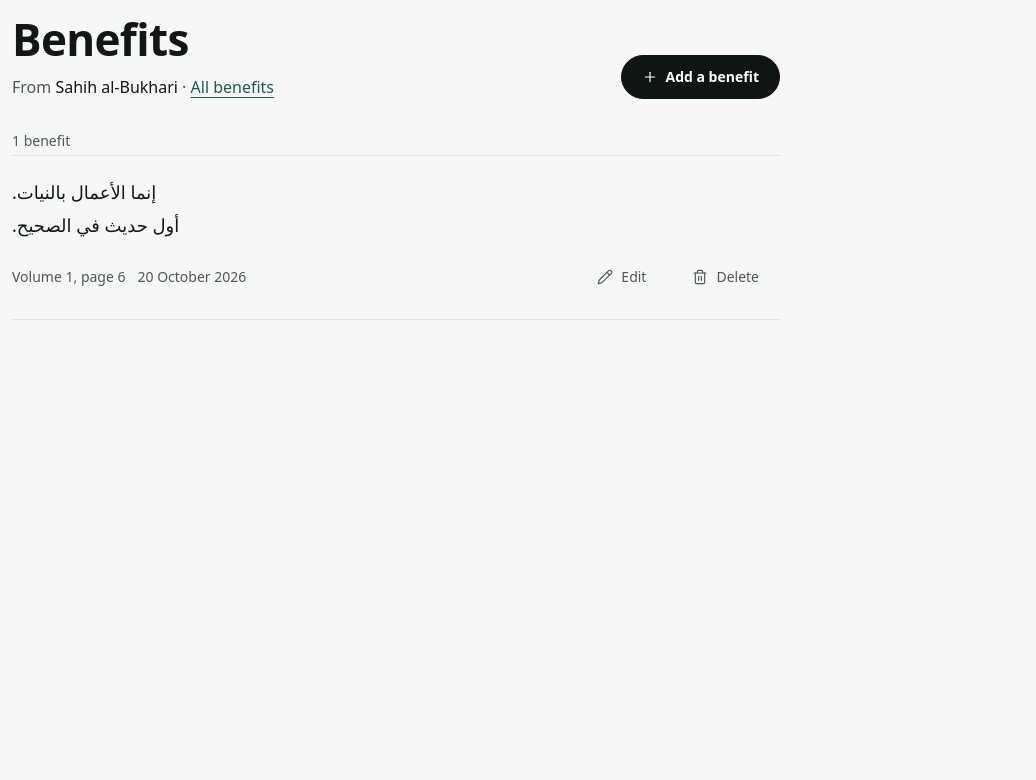
it: BenefitsPage › shows the benefits from one book, and deletes one at once, with Undo
Expected: the text "1 benefit" is shown, 12,131 -> 70,150
Expected: the text "From Sahih al-Bukhari · All benefits" is shown, 12,75 -> 274,99
Click the button with aria-label "Delete the benefit of 20 October 2026": (726, 277) 671,255 -> 780,299
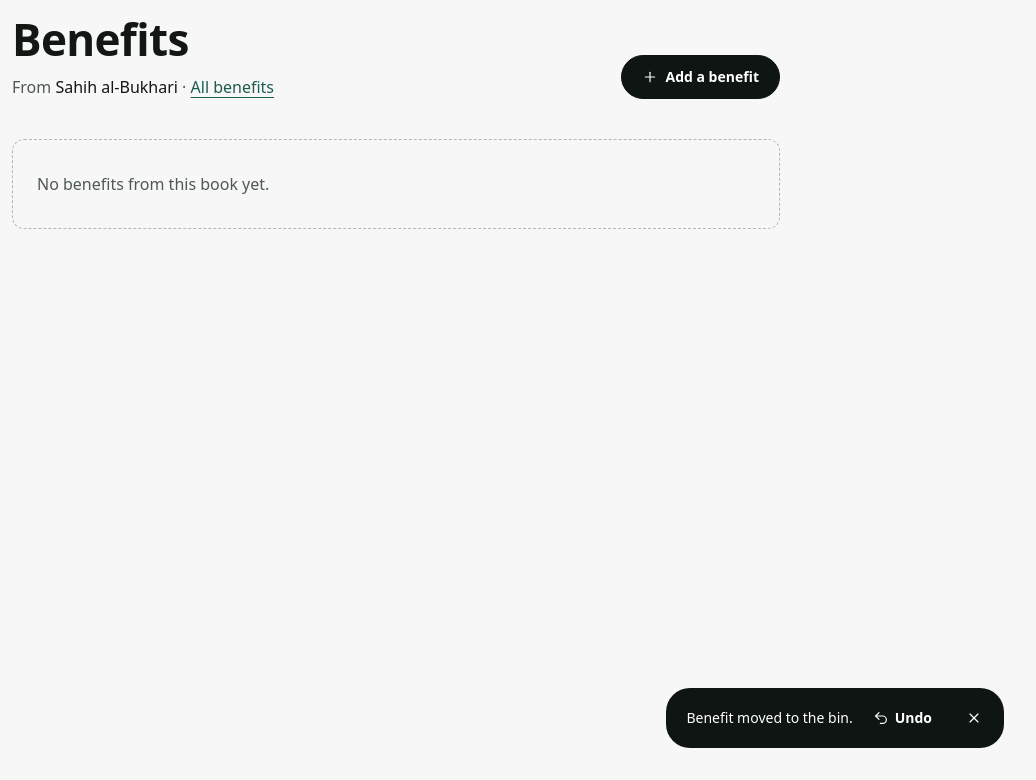
Expected: the text "No benefits from this book yet." is shown, 37,172 -> 269,196
Expected: the text "Benefit moved to the bin." is shown, 686,708 -> 853,727
Click the button "Undo": (902, 718) 861,696 -> 944,740
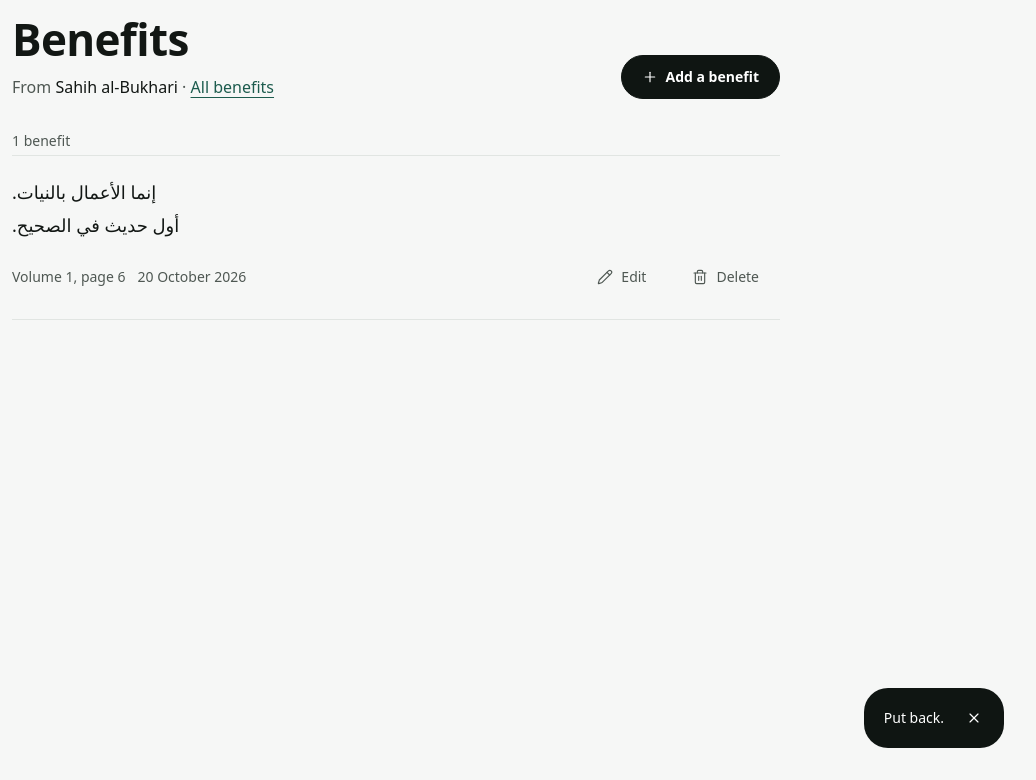
Expected: the text "1 benefit" is shown, 12,131 -> 70,150
Expected: the text "Put back." is shown, 884,708 -> 944,727
